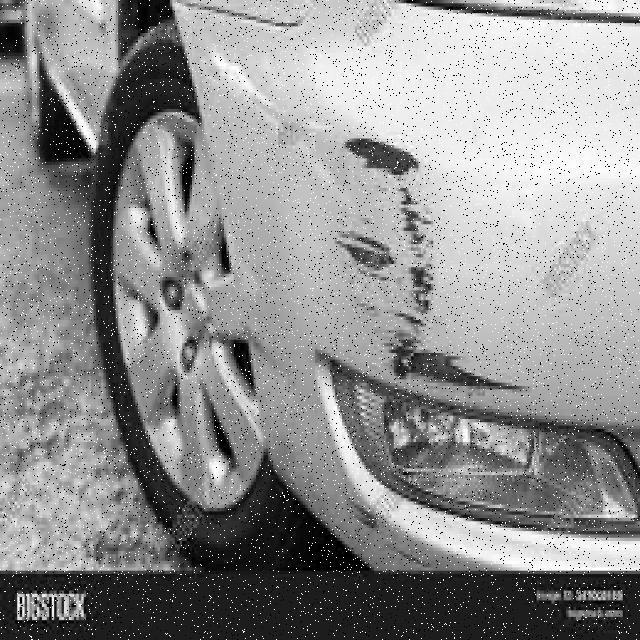front-bumper-dent: (171, 13, 638, 583)
